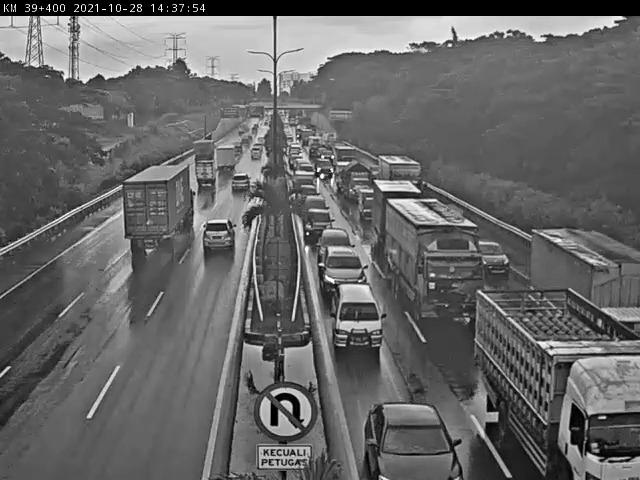big truck: (469, 266, 640, 477), (529, 223, 640, 360), (380, 199, 479, 330), (114, 158, 199, 272)
car: (362, 381, 471, 480), (330, 281, 391, 351), (319, 243, 374, 286), (473, 229, 508, 277), (203, 212, 239, 258), (304, 206, 350, 234), (322, 225, 359, 245), (228, 168, 251, 199)
small truck: (213, 143, 236, 179), (193, 158, 214, 193), (194, 137, 214, 166)
